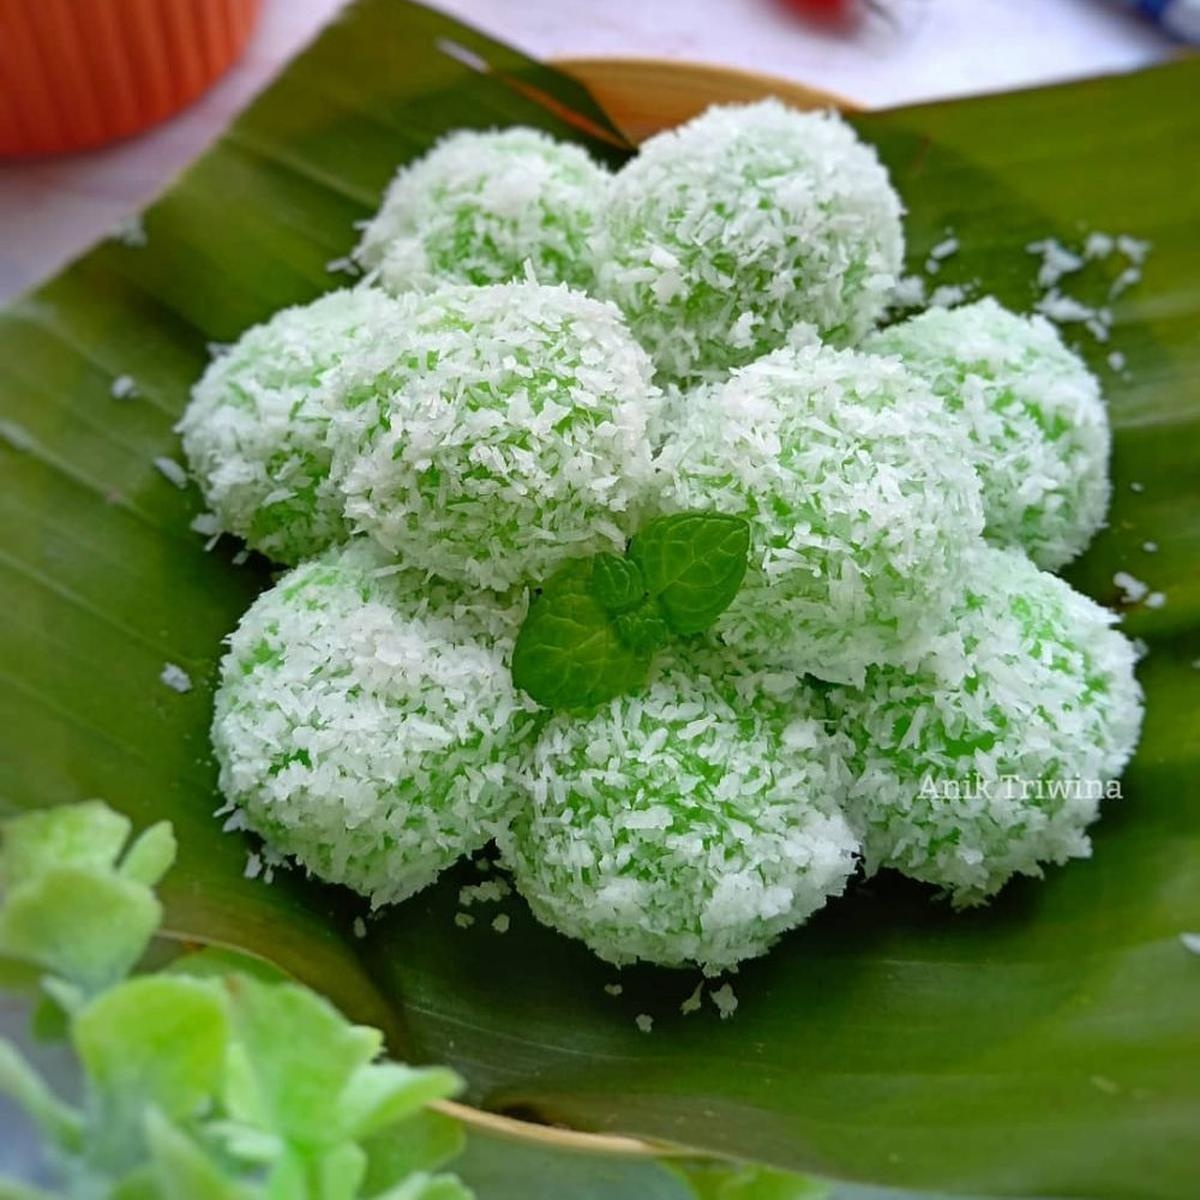klepon: (312, 305, 657, 573)
